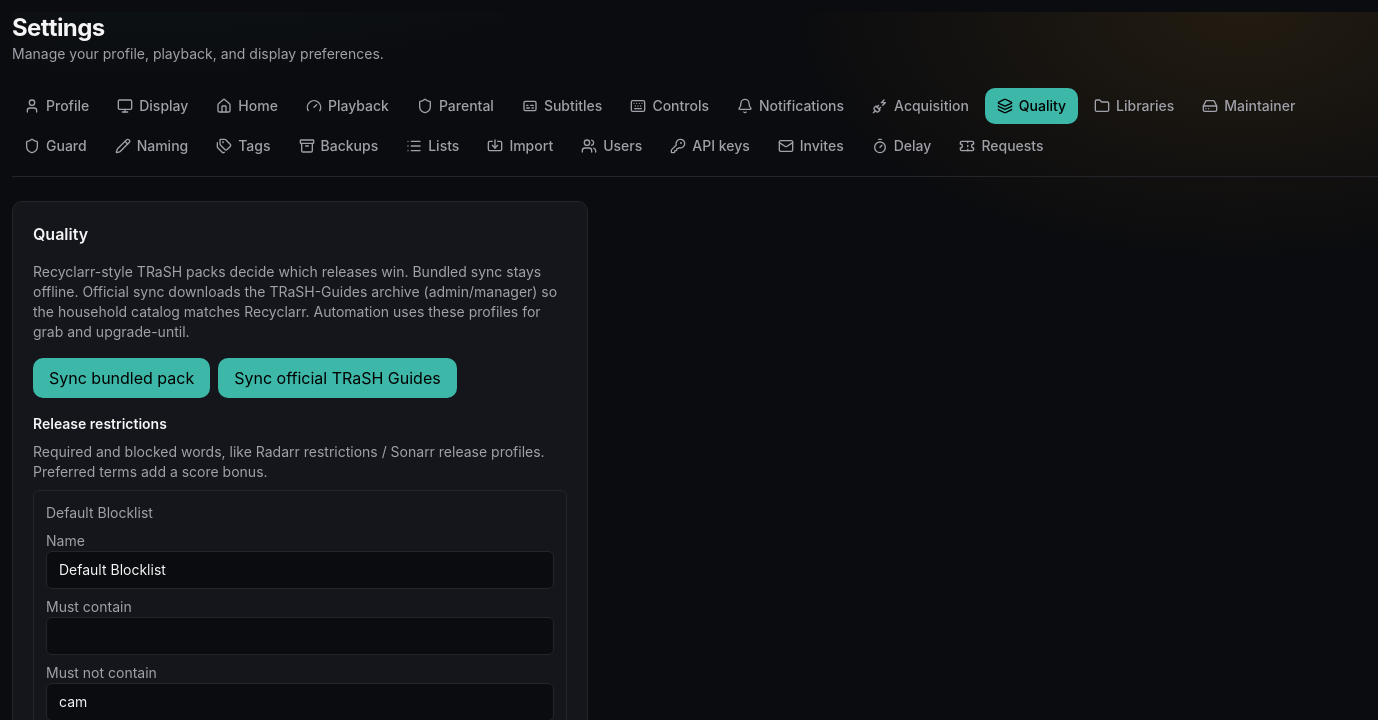
Test: Settings page › lets admins list TRaSH packs and sync them
This screenshot has width=1378, height=720.
Step 1. Click the button with test id "formats-sync-trash" → {"x": 122, "y": 378}, box [33,358,210,398]
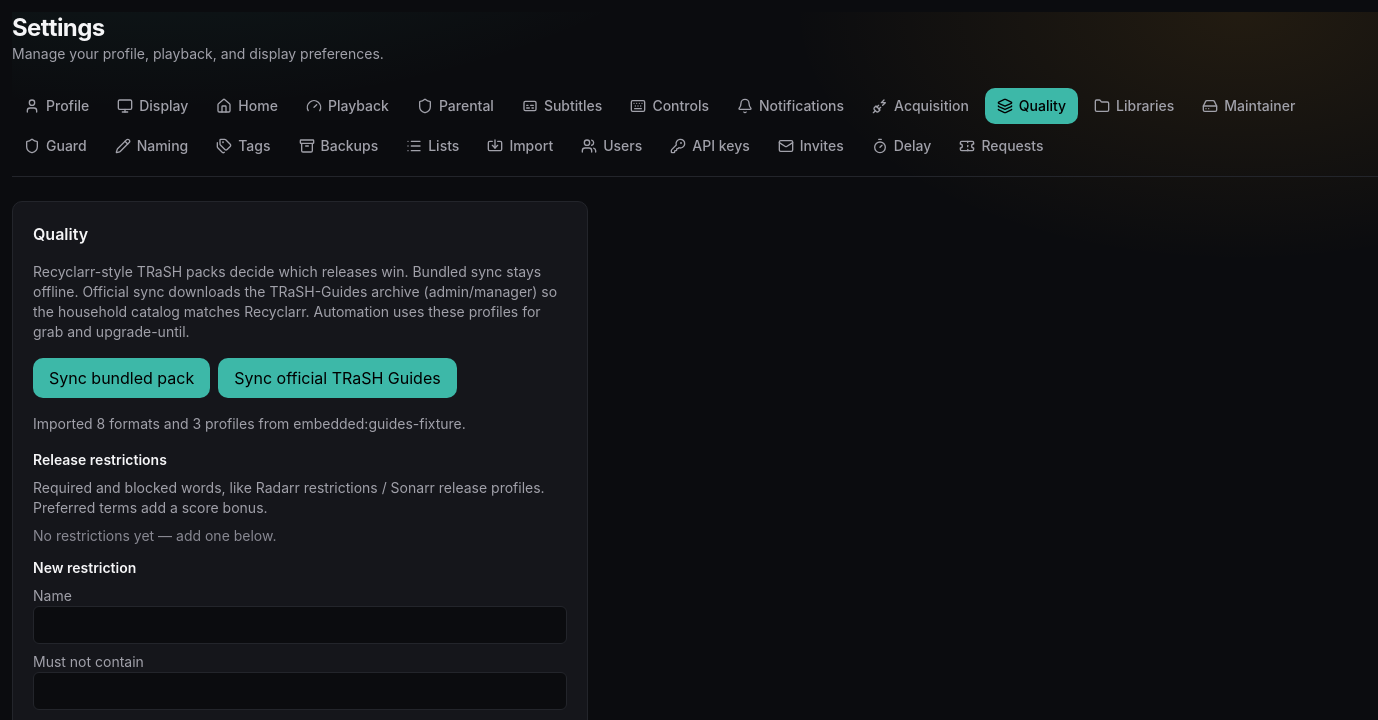
Result: the text with test id "formats-sync-result" shows "Imported 8 formats" at [33,415,466,432]
